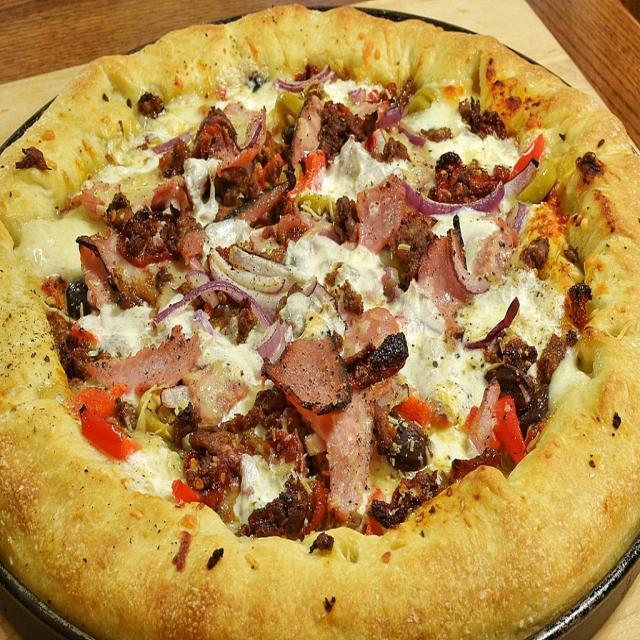Pizza: (0, 20, 638, 627)
